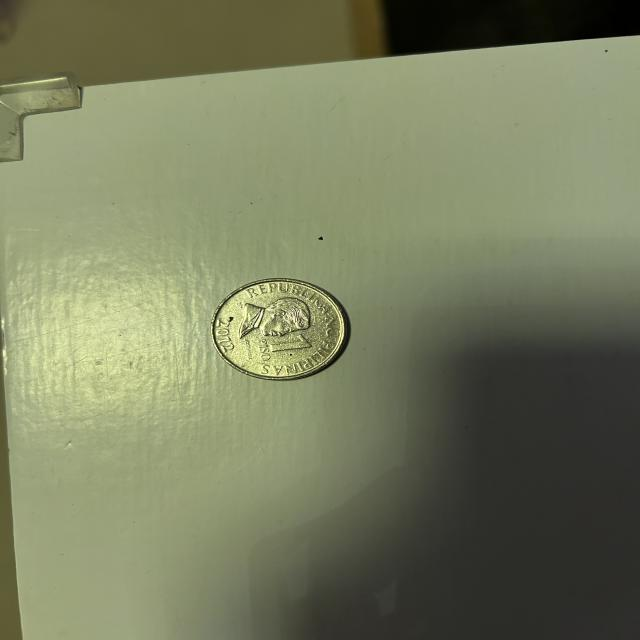1_Old_Front: (258, 330, 314, 364)
